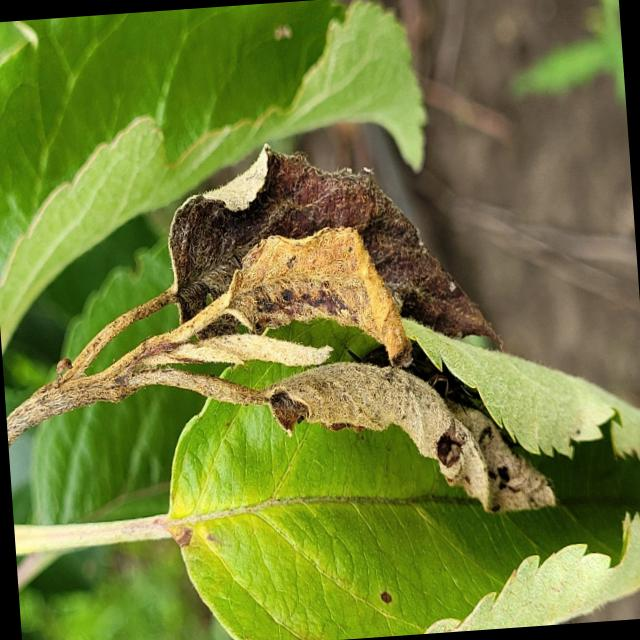-FireBlight-: (65, 132, 549, 521)
